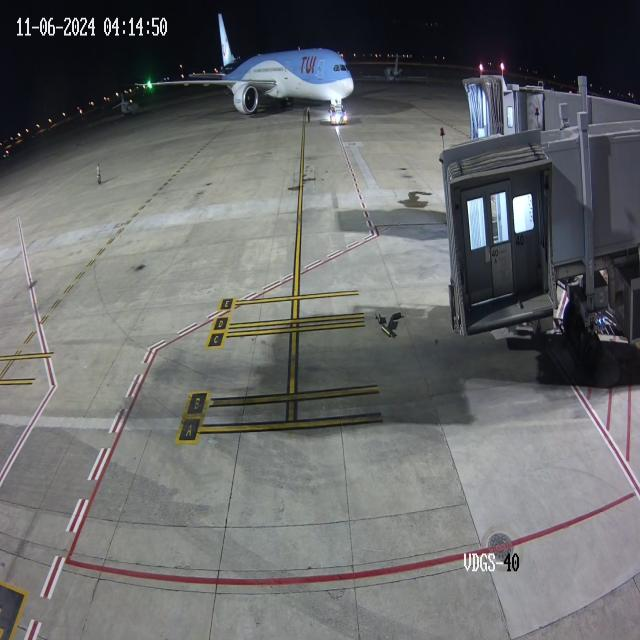bridge: (489, 74, 544, 136)
plane: (121, 0, 359, 126)
window: (331, 62, 349, 73)
